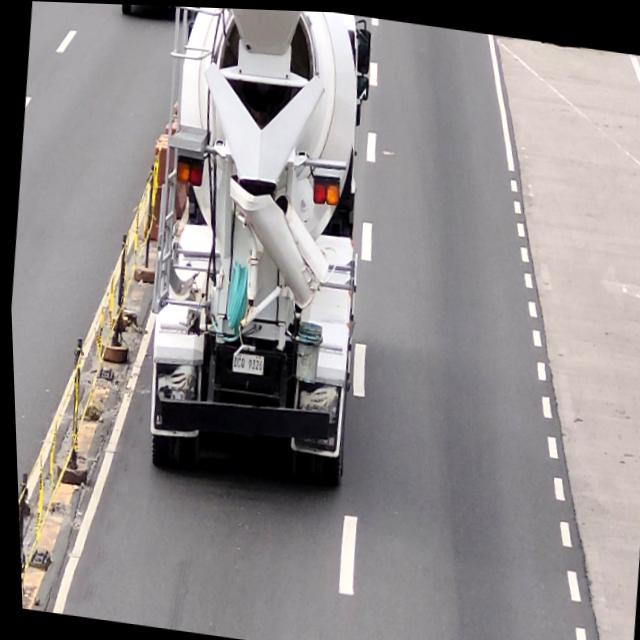License-Plate: (226, 344, 263, 377)
Truck: (123, 4, 392, 489)
